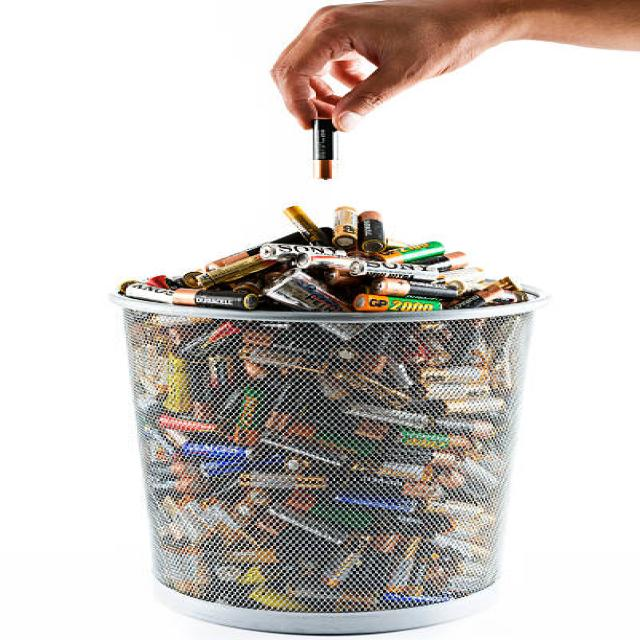metal: (109, 206, 536, 610)
